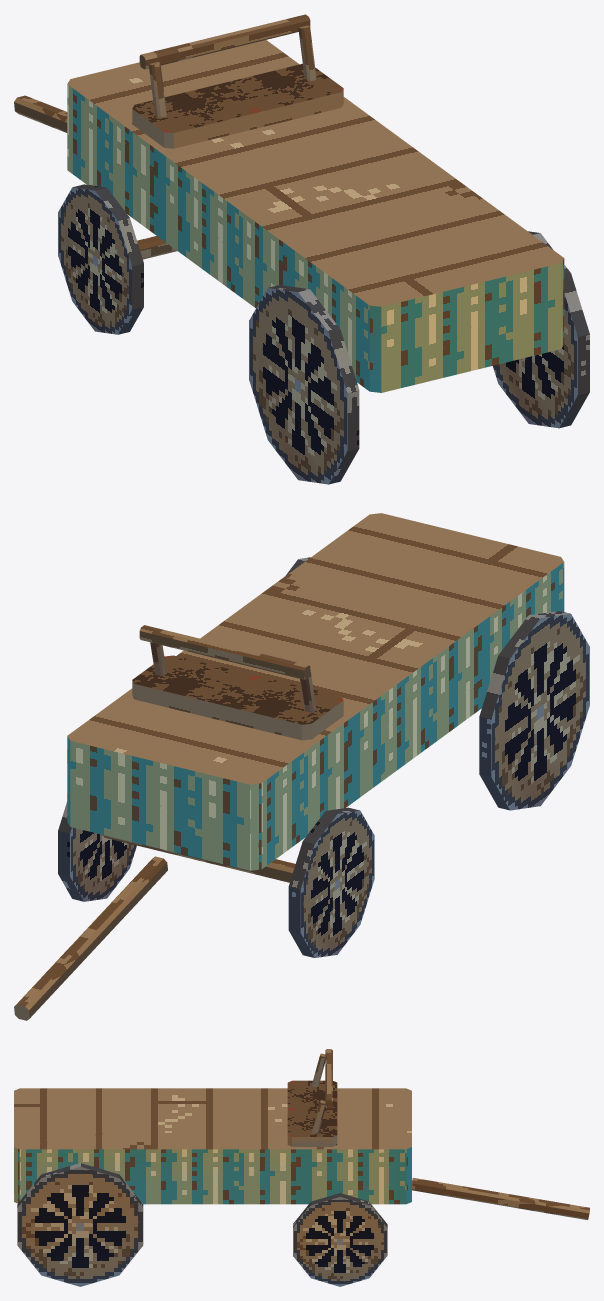
The model's file is wprop.wagon__buckboard.glb.
3 views of the same model, one above another, from view 1: azimuth 30°, elevation 25°; view 2: azimuth 150°, elevation 25°; view 3: azimuth 270°, elevation 25° (orthographic). The views are drawn at different scales.
Parts seen in each view (by area): view 1: kit_box, kit_wheels, kit_seat, kit_tongue; view 2: kit_box, kit_wheels, kit_seat, kit_tongue, kit_axles; view 3: kit_box, kit_wheels, kit_seat, kit_tongue.
Boxes of the visible parts, <box> form: kit_box: <box>67,40,564,392</box>; kit_wheels: <box>58,184,589,484</box>; kit_seat: <box>132,14,343,148</box>; kit_tongue: <box>14,95,67,132</box>; kit_box: <box>67,513,564,870</box>; kit_wheels: <box>58,557,589,957</box>; kit_seat: <box>132,625,343,740</box>; kit_tongue: <box>14,856,167,1020</box>; kit_axles: <box>102,835,295,882</box>; kit_box: <box>14,1088,411,1204</box>; kit_wheels: <box>17,1163,387,1286</box>; kit_seat: <box>287,1049,337,1146</box>; kit_tongue: <box>412,1177,589,1220</box>.
Size of the model in its own units: 1.62 by 1.74 by 5.21.
6 materials, 6 textured.
